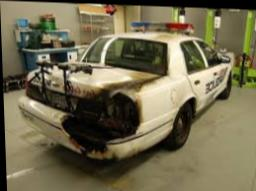Bumper: (58, 111, 134, 150)
Dickey: (70, 63, 160, 95)
Light: (94, 89, 143, 128)
